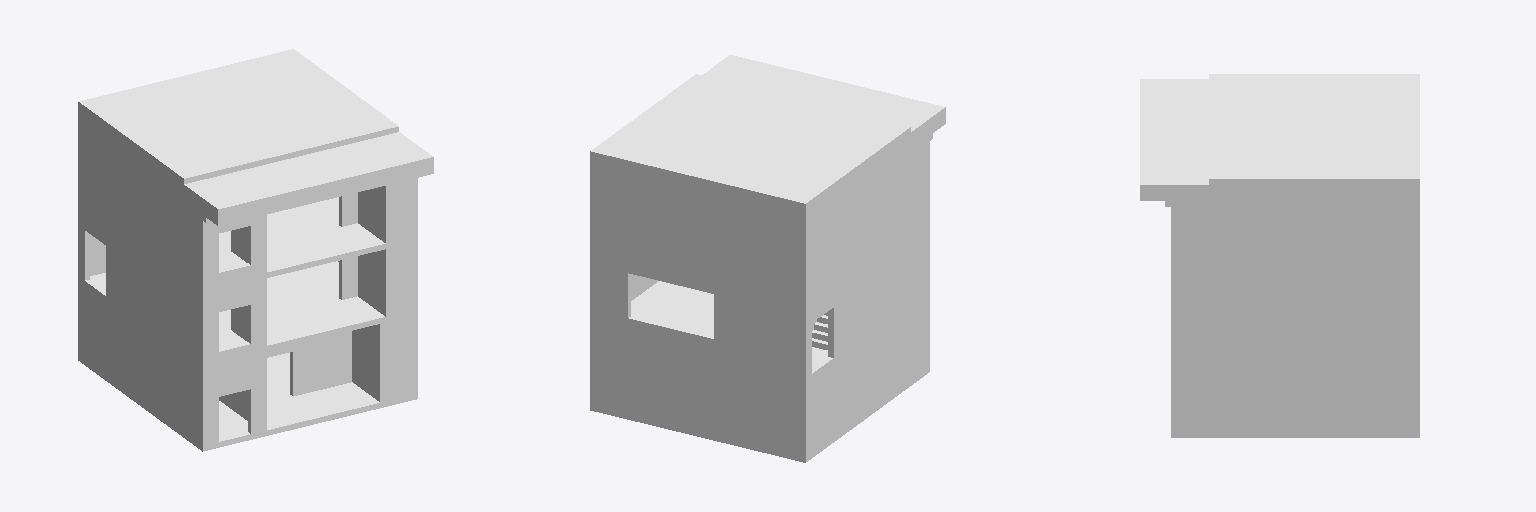
Rendered from baeto.obj.
3 renders of one model, left to right at view 1: azimuth 30°, elevation 25°; view 2: azimuth 150°, elevation 25°; view 3: azimuth 270°, elevation 25°, orthographic.
Visible parts, largest first — view 1: object 1; view 2: object 1; view 3: object 1.
Part boxes in pixels (left/top/right/bottom): object 1: left=78, top=49, right=433, bottom=451; object 1: left=590, top=55, right=945, bottom=462; object 1: left=1140, top=74, right=1419, bottom=437.
Size of the model in its own units: 4 by 4.6 by 4.5.